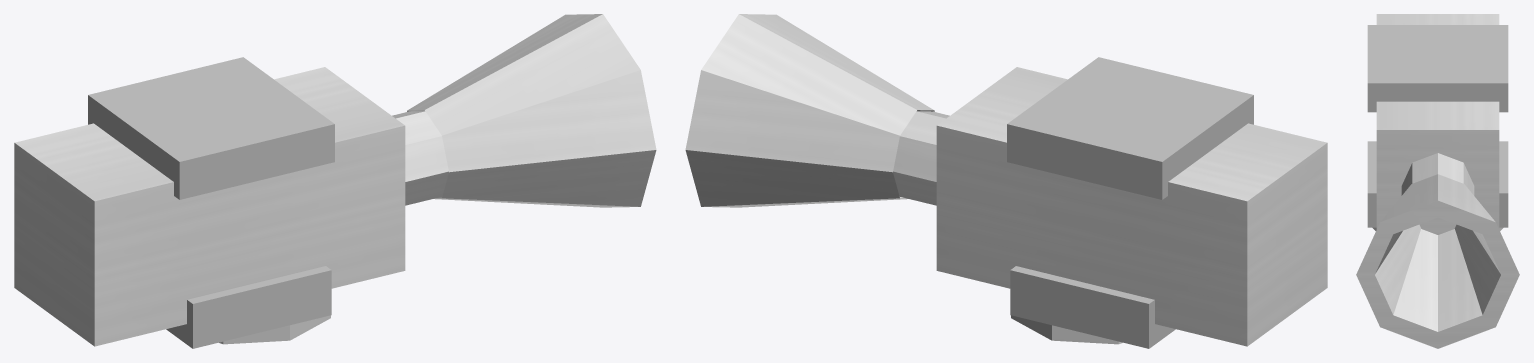
Rendered from foam_top.obj.
The picture shows the model from 3 angles, left to right: view 1: azimuth 30°, elevation 25°; view 2: azimuth 150°, elevation 25°; view 3: azimuth 270°, elevation 25°; orthographic projection. The views are drawn at different scales.
Visible parts, largest first — view 1: foam_top; view 2: foam_top; view 3: foam_top.
Boxes of the visible parts, left/top/right/bottom form: foam_top: left=14, top=14, right=656, bottom=348; foam_top: left=685, top=14, right=1327, bottom=348; foam_top: left=1356, top=14, right=1519, bottom=348.
Size of the model in its own units: 0.83 by 0.3 by 0.28.
